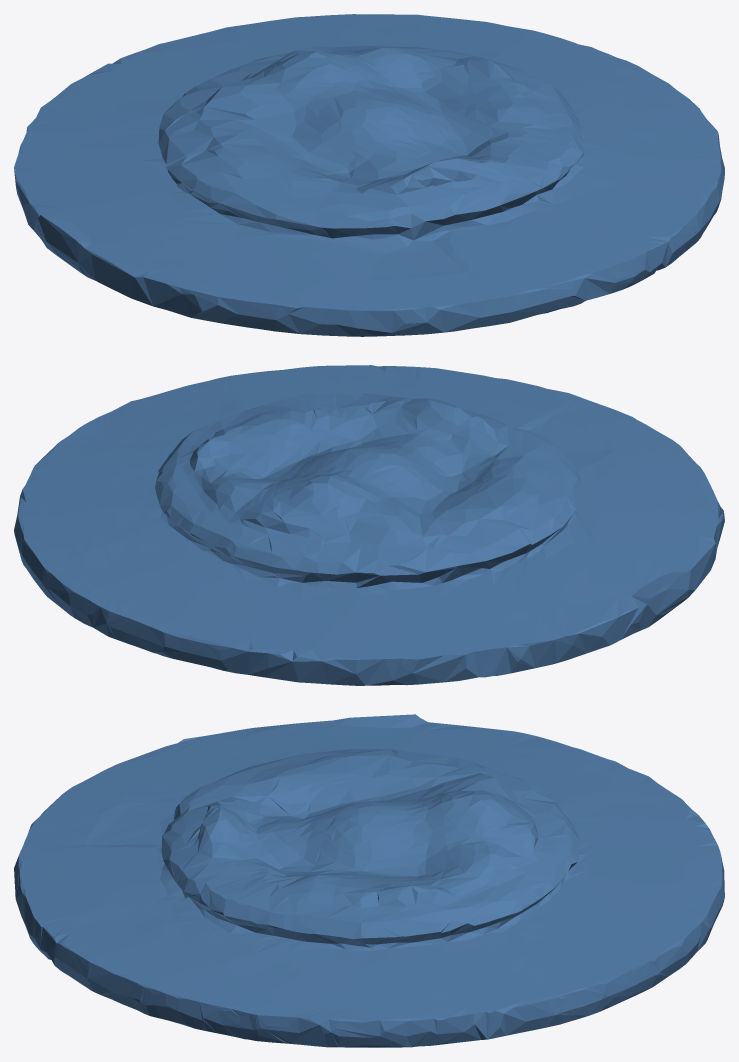
File: figurine-0.glb
3 renders of one model, top to bottom at view 1: azimuth 30°, elevation 25°; view 2: azimuth 150°, elevation 25°; view 3: azimuth 270°, elevation 25°, orthographic.
Visible parts, largest first — view 1: part_00; view 2: part_00; view 3: part_00.
Part boxes in pixels (bbox=[...]): part_00: bbox=[14, 14, 724, 336]; part_00: bbox=[14, 365, 724, 685]; part_00: bbox=[14, 714, 724, 1047].
Size of the model in its own units: 0.4764 by 0.0764 by 0.4711.
